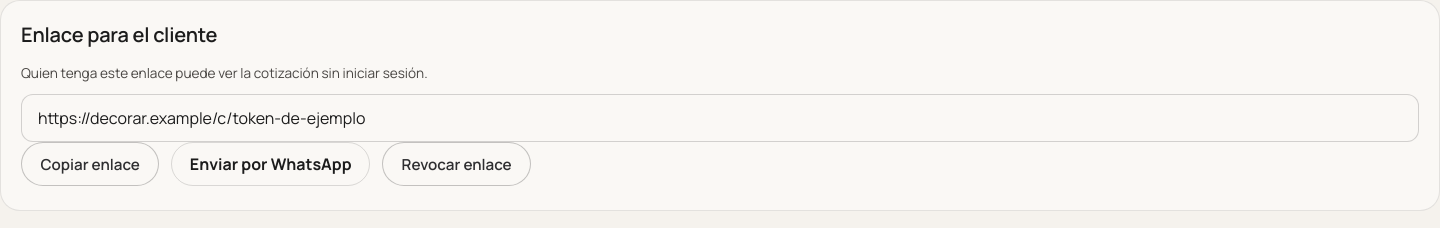
Scenario: ShareLinkSection (DECOR-53) › copiar enlace usa el portapapeles y muestra confirmación
Expected: the field showing "https://decorar.example/c/token-de-ejemplo" is shown, [21, 94, 1419, 142]
Click the button "Copiar enlace" at coordinates (90, 164), box [21, 142, 159, 186]
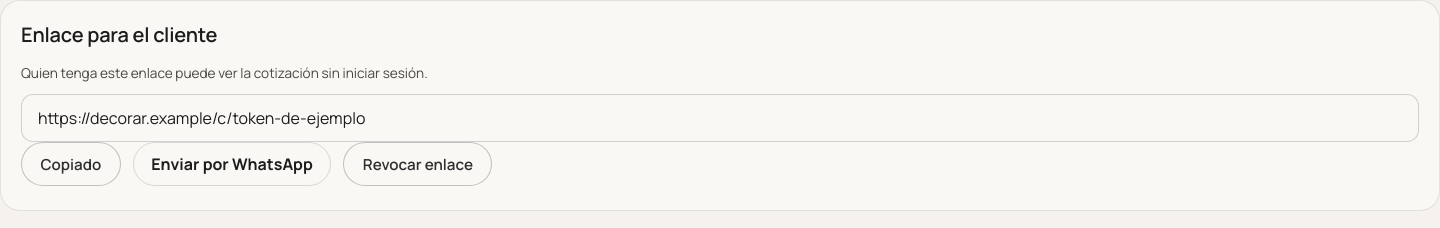
Result: the button "Copiado" is shown at [21, 142, 120, 186]
